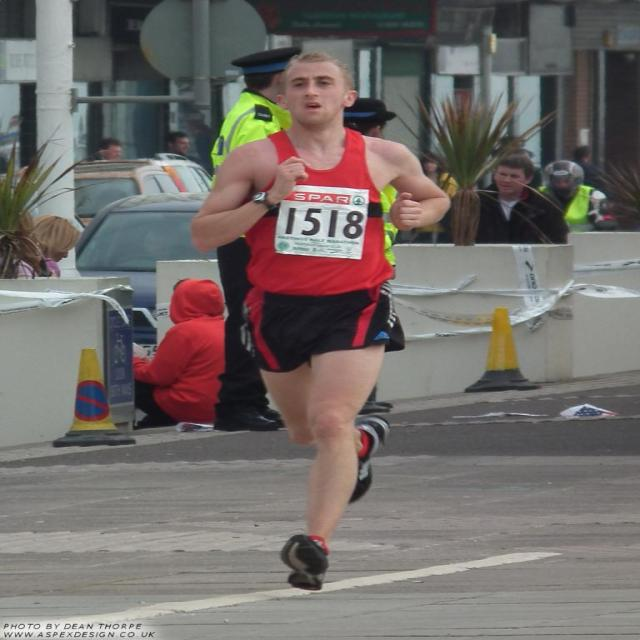Bib: (277, 208, 363, 245)
